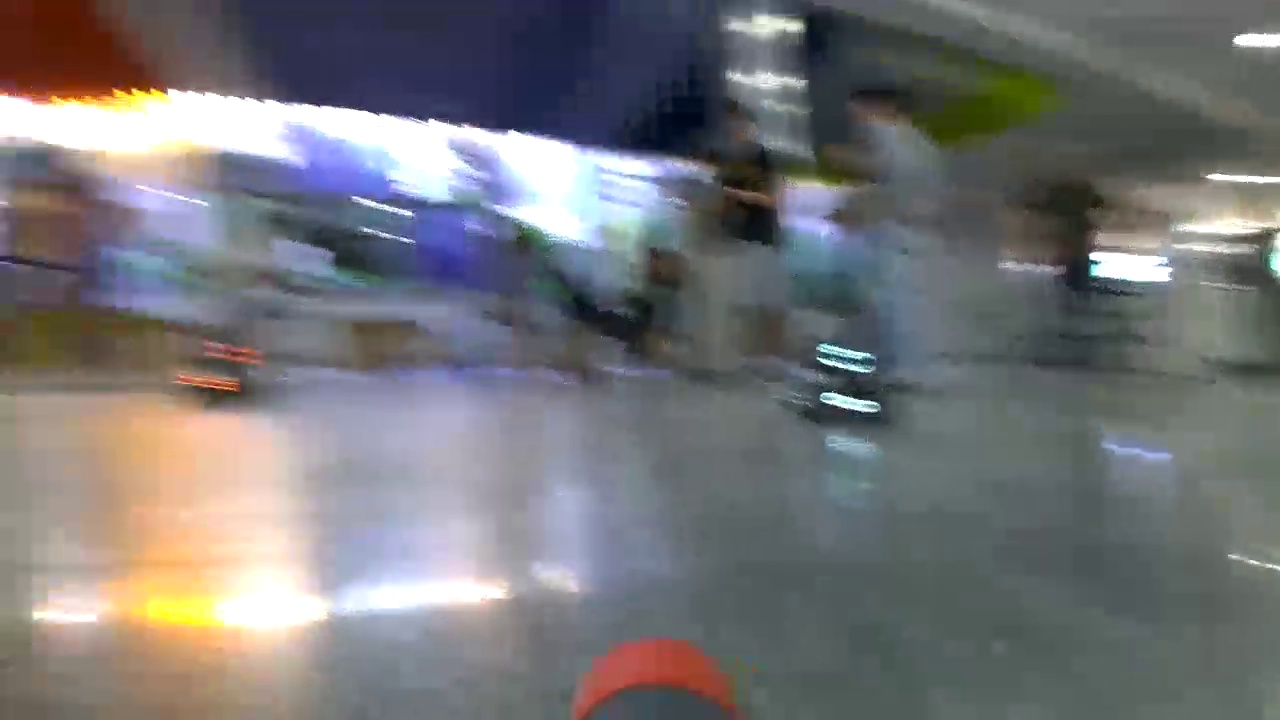robot: (789, 330, 902, 432), (177, 341, 271, 400)
